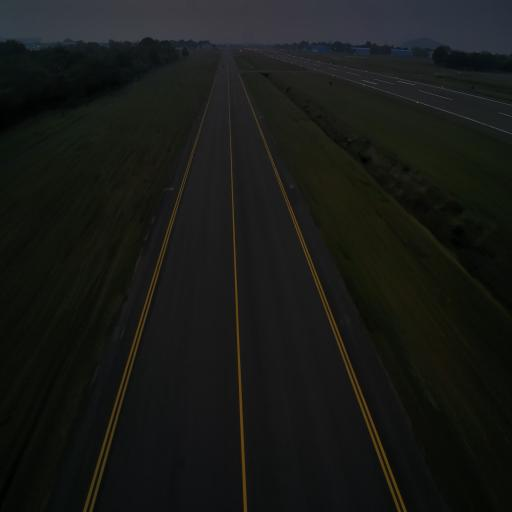off: (170, 185, 173, 192)
on: (291, 182, 293, 188), (197, 115, 200, 119), (260, 114, 262, 119)
